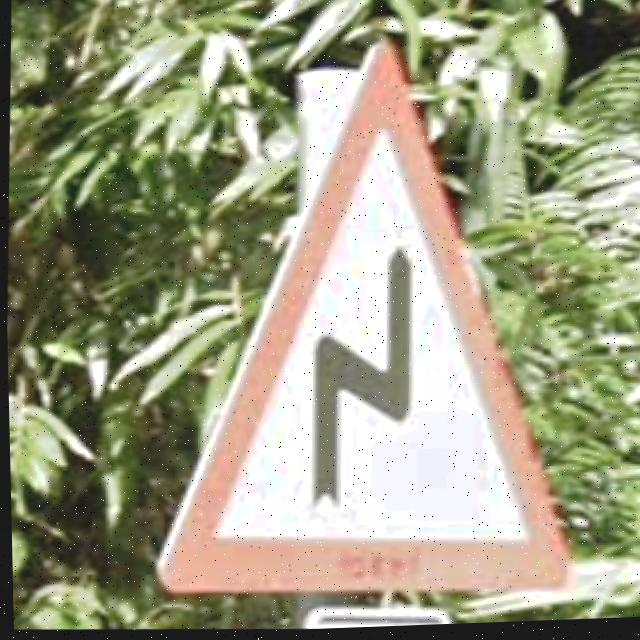doublebendright: (154, 46, 568, 598)
